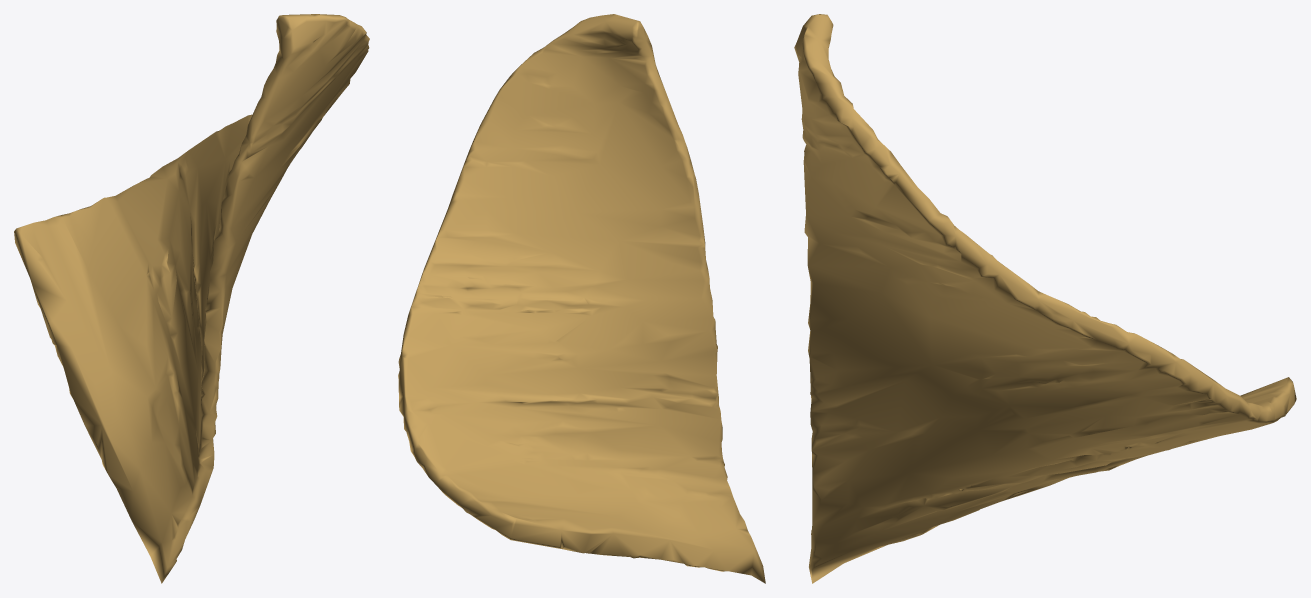
The picture shows the model from 3 angles, left to right: view 1: azimuth 30°, elevation 25°; view 2: azimuth 150°, elevation 25°; view 3: azimuth 270°, elevation 25°; orthographic projection. The views are drawn at different scales.
Parts seen in each view (by area): view 1: 左侧环咽韧带; view 2: 左侧环咽韧带; view 3: 左侧环咽韧带.
Part boxes in pixels (left/top/right/bottom): 左侧环咽韧带: left=14, top=14, right=369, bottom=583; 左侧环咽韧带: left=398, top=14, right=765, bottom=583; 左侧环咽韧带: left=794, top=14, right=1296, bottom=583.
Bounding box in the file's own units: 0.0128 × 0.0267 × 0.0189.
